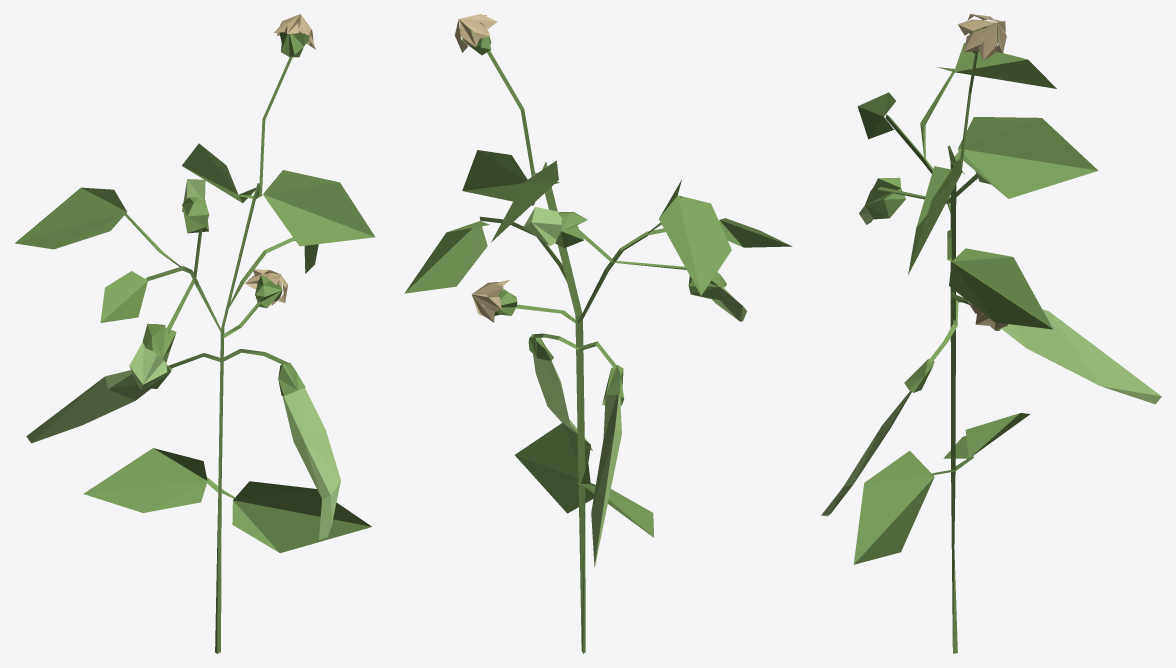
File: Pepper_5.fbx
3 renders of one model, left to right at view 1: azimuth 30°, elevation 25°; view 2: azimuth 150°, elevation 25°; view 3: azimuth 270°, elevation 25°, orthographic. The views are drawn at different scales.
Parts seen in each view (by area): view 1: pCube56; view 2: pCube56; view 3: pCube56.
Boxes of the visible parts, x1,y1,x2,y2 form: pCube56: [15, 14, 374, 653]; pCube56: [404, 14, 792, 653]; pCube56: [821, 14, 1161, 653].
Bounding box in the file's own units: 135 × 262 × 117.
